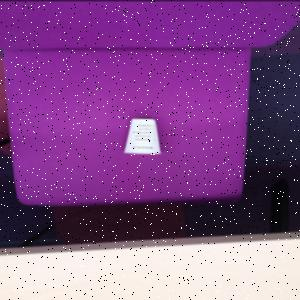Cup: (125, 119, 163, 155)
